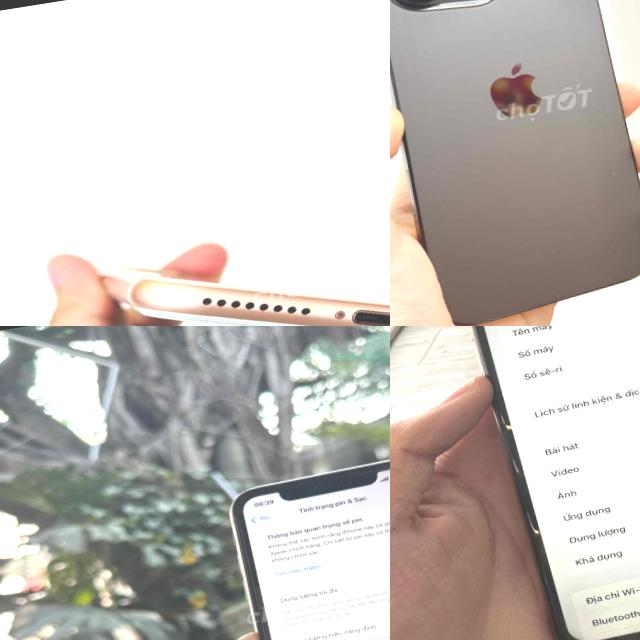gen_16: (390, 0, 640, 324)
gen_7_8: (88, 182, 390, 326)
gen_x_xs: (424, 326, 640, 640), (230, 460, 390, 640)
